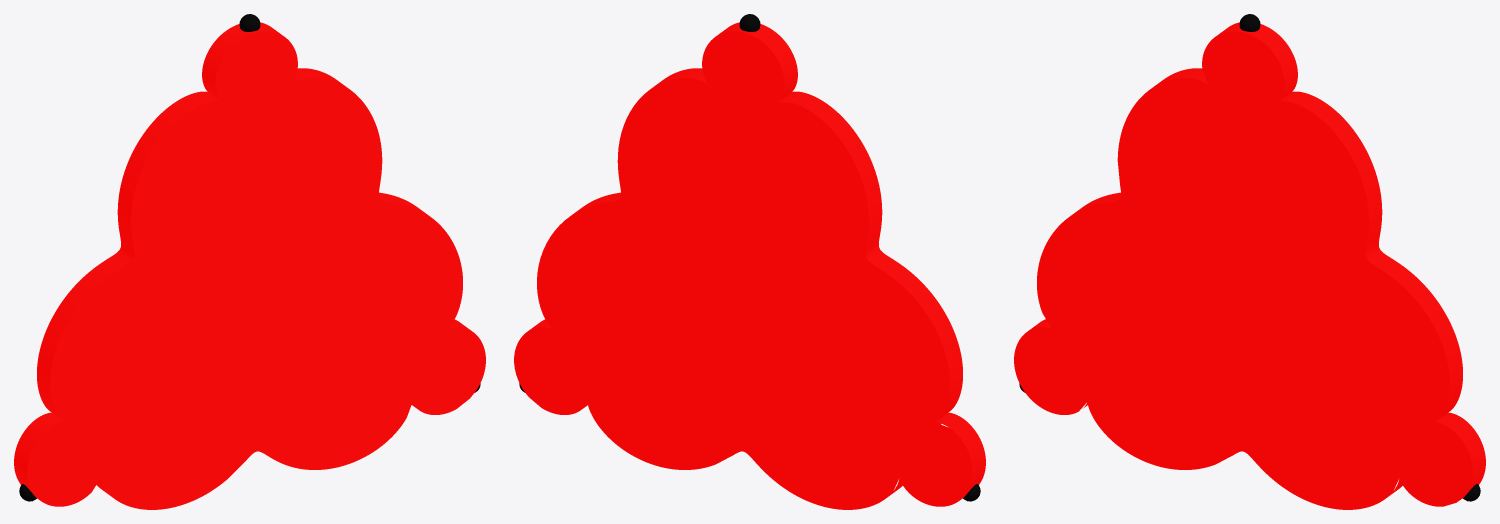
3 views of the same model, side by side, from view 1: azimuth 30°, elevation 25°; view 2: azimuth 150°, elevation 25°; view 3: azimuth 330°, elevation 25° (orthographic).
Bounding box in the file's own units: 1 × 0.9733 × 0.05.
